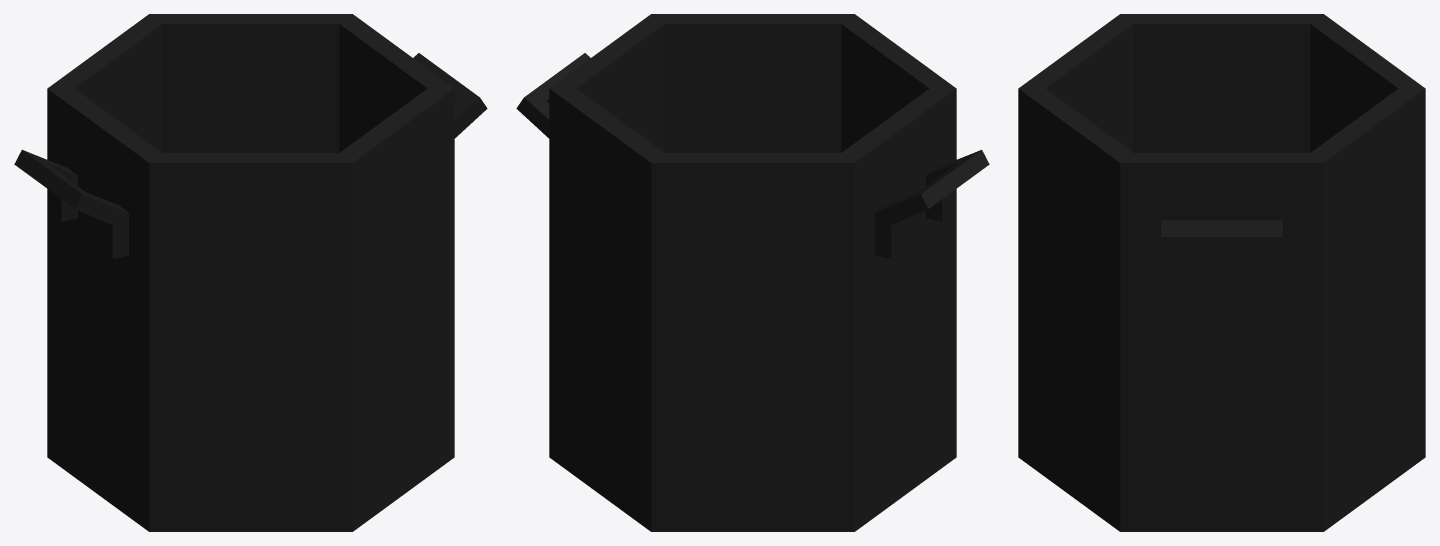
The model's file is pot3_PLY.fbx.
The picture shows the model from 3 angles, left to right: view 1: azimuth 30°, elevation 25°; view 2: azimuth 150°, elevation 25°; view 3: azimuth 270°, elevation 25°; orthographic projection.
Visible parts, largest first — view 1: pot3_PLY; view 2: pot3_PLY; view 3: pot3_PLY.
Boxes of the visible parts, x1=… form: pot3_PLY: x1=14, y1=14, x2=487, y2=531; pot3_PLY: x1=516, y1=14, x2=989, y2=531; pot3_PLY: x1=1018, y1=14, x2=1425, y2=531.
Bounding box in the file's own units: 1.64 × 1.4 × 1.4.
